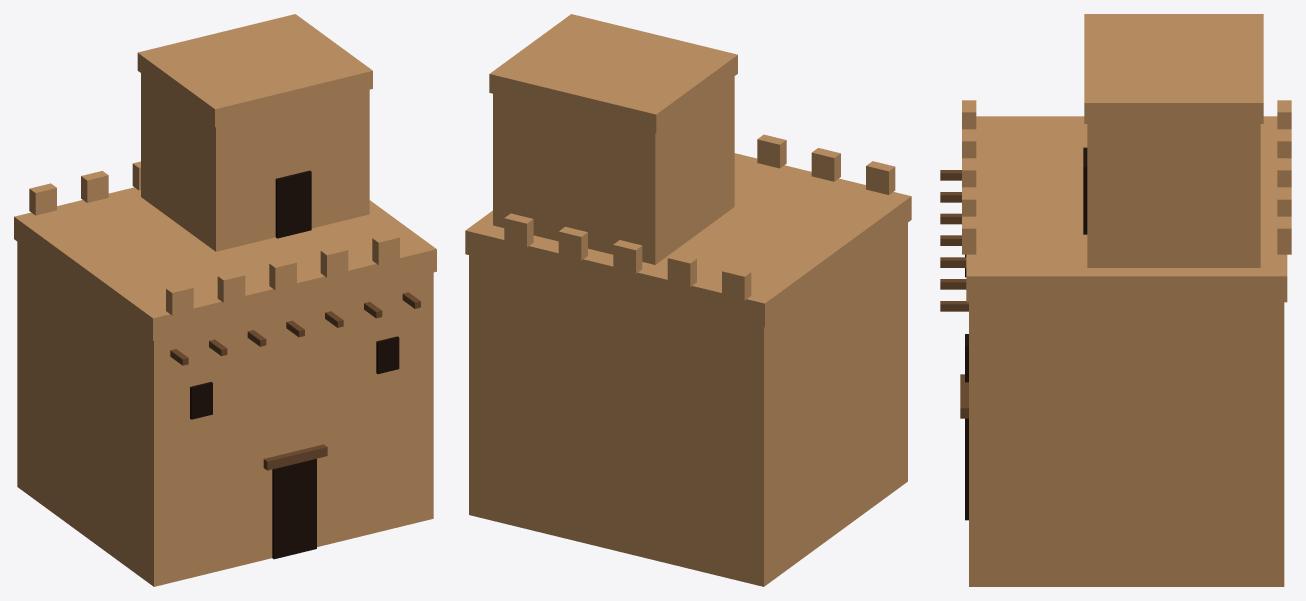
File: house_b.glb
The picture shows the model from 3 angles, left to right: view 1: azimuth 30°, elevation 25°; view 2: azimuth 150°, elevation 25°; view 3: azimuth 270°, elevation 25°; orthographic projection. The views are drawn at different scales.
Parts seen in each view (by area): view 1: House; view 2: House; view 3: House.
Part boxes in pixels (x1=…): House: x1=14, y1=14, x2=436, y2=586; House: x1=465, y1=14, x2=911, y2=586; House: x1=940, y1=14, x2=1291, y2=586.
Bounding box in the file's own units: 6.6 × 9.2 × 6.12.
